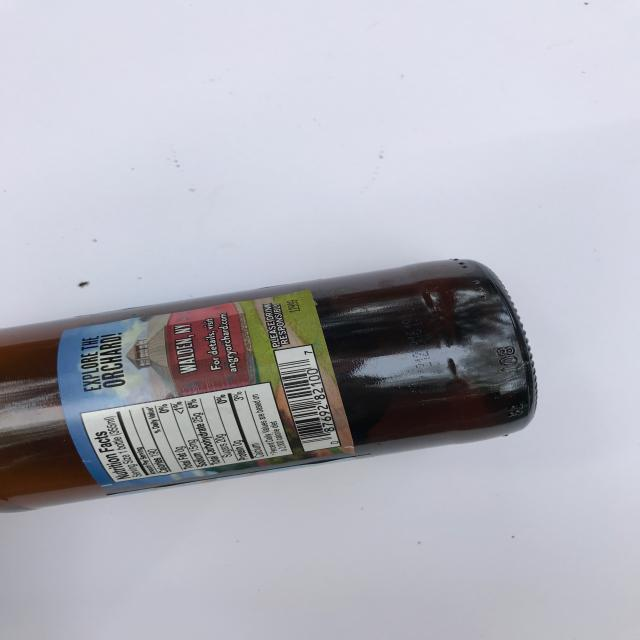glass: (5, 258, 542, 513)
